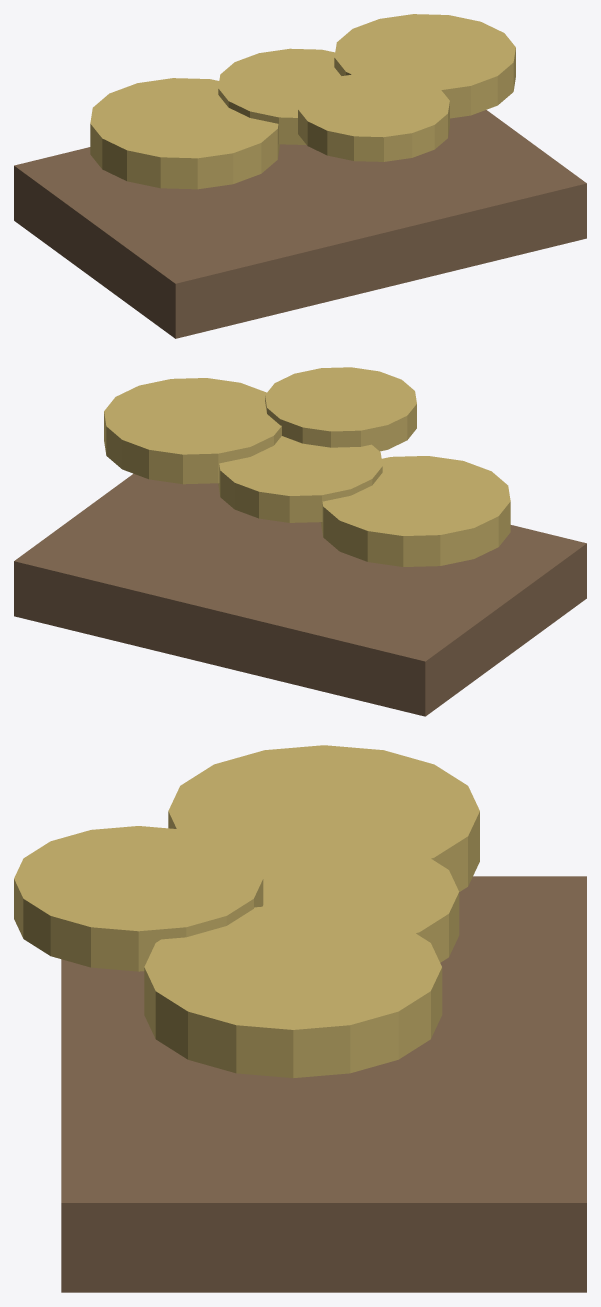
File: loot_coin_cache.glb
3 views of the same model, one above another, from view 1: azimuth 30°, elevation 25°; view 2: azimuth 150°, elevation 25°; view 3: azimuth 270°, elevation 25° (orthographic). The views are drawn at different scales.
Parts seen in each view (by area): view 1: Tray, Coin_0, Coin_2, Coin_3, Coin_1; view 2: Tray, Coin_0, Coin_2, Coin_3, Coin_1; view 3: Tray, Coin_2, Coin_3, Coin_0, Coin_1.
Part boxes in pixels (x1,y1,x2,y2): Tray: (14, 110, 586, 338); Coin_0: (90, 78, 279, 189); Coin_2: (334, 14, 515, 118); Coin_3: (298, 73, 449, 161); Coin_1: (218, 48, 340, 144); Tray: (14, 473, 586, 716); Coin_0: (321, 456, 510, 566); Coin_2: (104, 378, 281, 484); Coin_3: (265, 367, 416, 451); Coin_1: (218, 436, 382, 522); Tray: (61, 876, 586, 1292); Coin_2: (144, 904, 442, 1078); Coin_3: (14, 826, 263, 971); Coin_0: (168, 745, 479, 891); Coin_1: (239, 834, 459, 962).
Bounding box in the file's own units: 1.25 × 0.471 × 0.9266.
